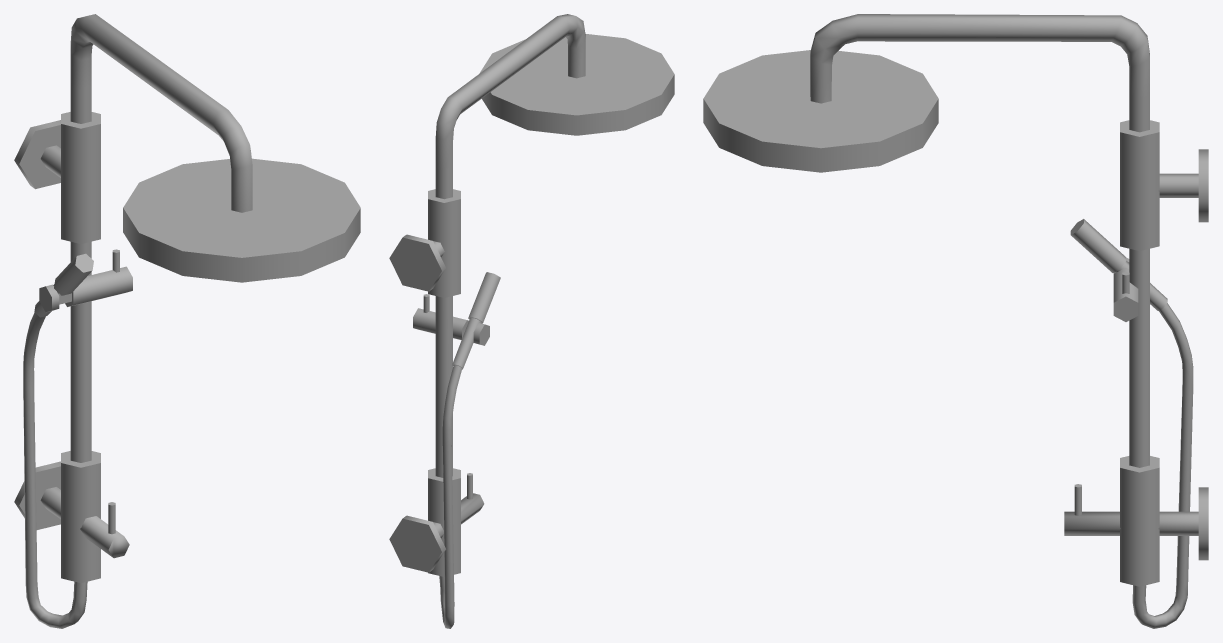
Rendered from ShowerHead_01.fbx.
3 views of the same model, side by side, from view 1: azimuth 30°, elevation 25°; view 2: azimuth 150°, elevation 25°; view 3: azimuth 270°, elevation 25° (orthographic). The views are drawn at different scales.
Visible parts, largest first — view 1: ShowerHead_01; view 2: ShowerHead_01; view 3: ShowerHead_01.
Part boxes in pixels (x1=…): ShowerHead_01: x1=14, y1=14, x2=360, y2=628; ShowerHead_01: x1=389, y1=14, x2=674, y2=628; ShowerHead_01: x1=703, y1=14, x2=1208, y2=628.
Size of the model in its own units: 0.2635 by 0.7635 by 0.5658.
